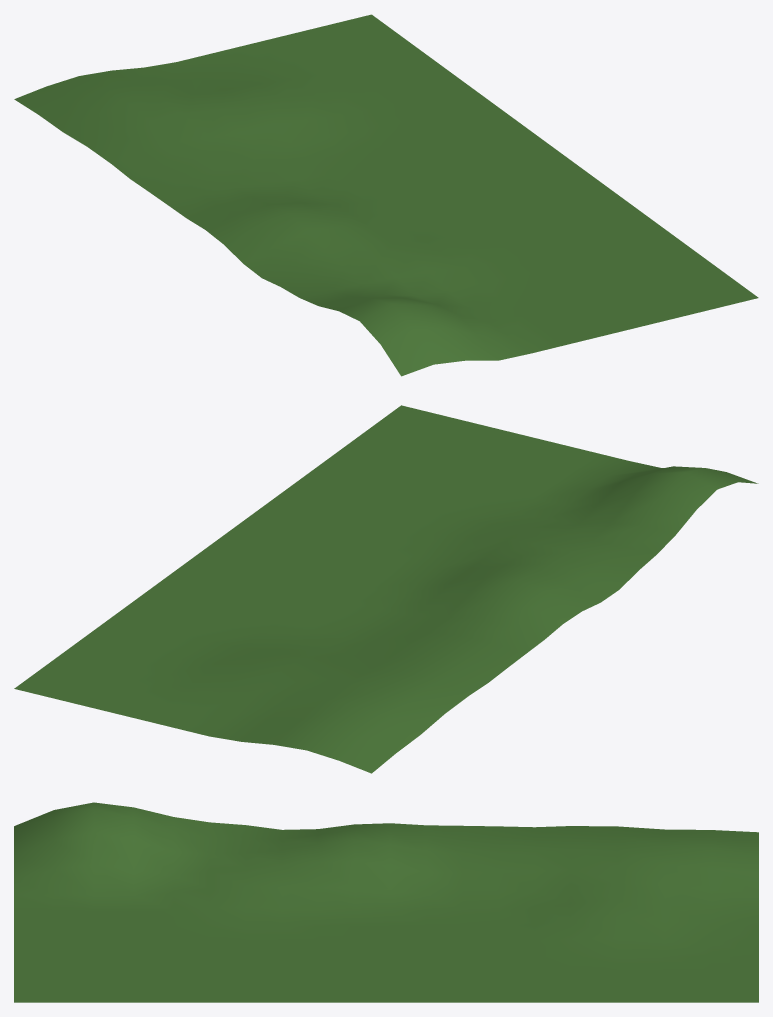
The model's file is Ground_Plain.glb.
3 views of the same model, one above another, from view 1: azimuth 30°, elevation 25°; view 2: azimuth 150°, elevation 25°; view 3: azimuth 270°, elevation 25° (orthographic). The views are drawn at different scales.
Parts seen in each view (by area): view 1: Plane.001; view 2: Plane.001; view 3: Plane.001.
Boxes of the visible parts, left/top/right/bottom form: Plane.001: left=14, top=14, right=758, bottom=376; Plane.001: left=14, top=405, right=758, bottom=773; Plane.001: left=14, top=802, right=758, bottom=1002.
Size of the model in its own units: 33.89 by 3.86 by 63.55.
